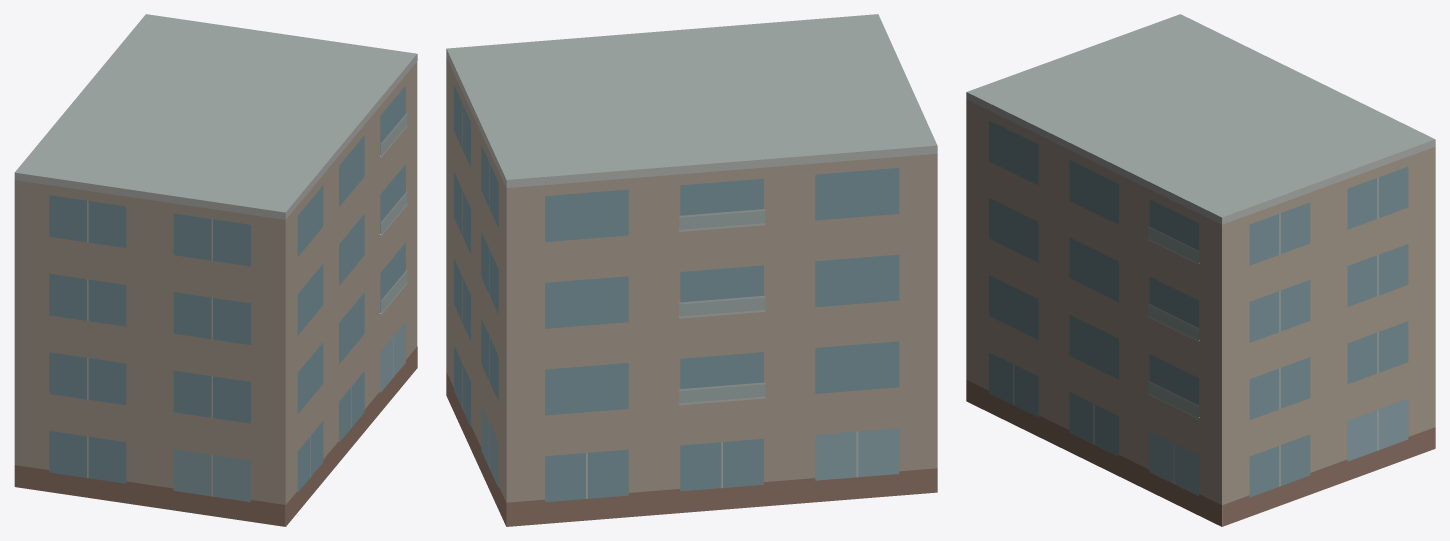
File: survey-upis-32917263.glb
3 renders of one model, left to right at view 1: azimuth 30°, elevation 25°; view 2: azimuth 150°, elevation 25°; view 3: azimuth 270°, elevation 25°, orthographic. The views are drawn at different scales.
Visible parts, largest first — view 1: survey-upis-32917263.tmp; view 2: survey-upis-32917263.tmp; view 3: survey-upis-32917263.tmp.
Boxes of the visible parts, x1,y1,x2,y2 form: survey-upis-32917263.tmp: (14,14,417,526); survey-upis-32917263.tmp: (446,14,937,526); survey-upis-32917263.tmp: (966,14,1435,526).
Size of the model in its own units: 14.69 by 10.4 by 14.3.
